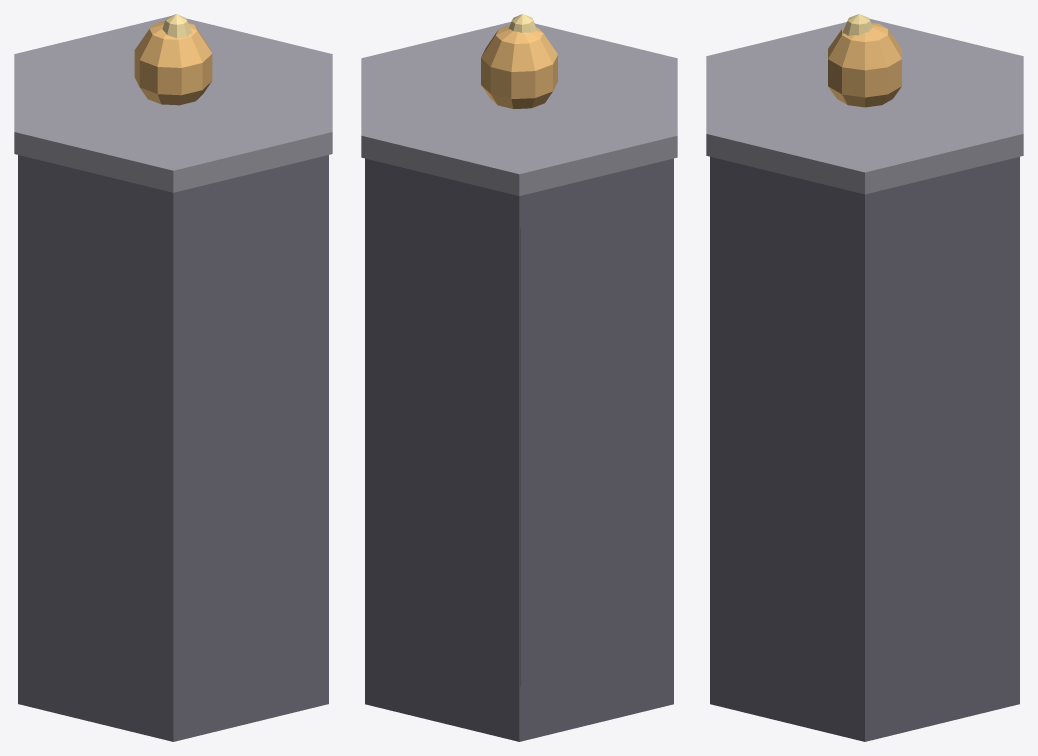
File: columna_con_llama.glb
The picture shows the model from 3 angles, left to right: view 1: azimuth 30°, elevation 25°; view 2: azimuth 150°, elevation 25°; view 3: azimuth 270°, elevation 25°; orthographic projection.
Visible parts, largest first — view 1: columna_con_llama; view 2: columna_con_llama; view 3: columna_con_llama.
Boxes of the visible parts, <box> form: columna_con_llama: <box>14,14,332,741</box>; columna_con_llama: <box>361,14,677,741</box>; columna_con_llama: <box>706,14,1023,741</box>.
Bounding box in the file's own units: 2.42 × 4.75 × 2.1.
